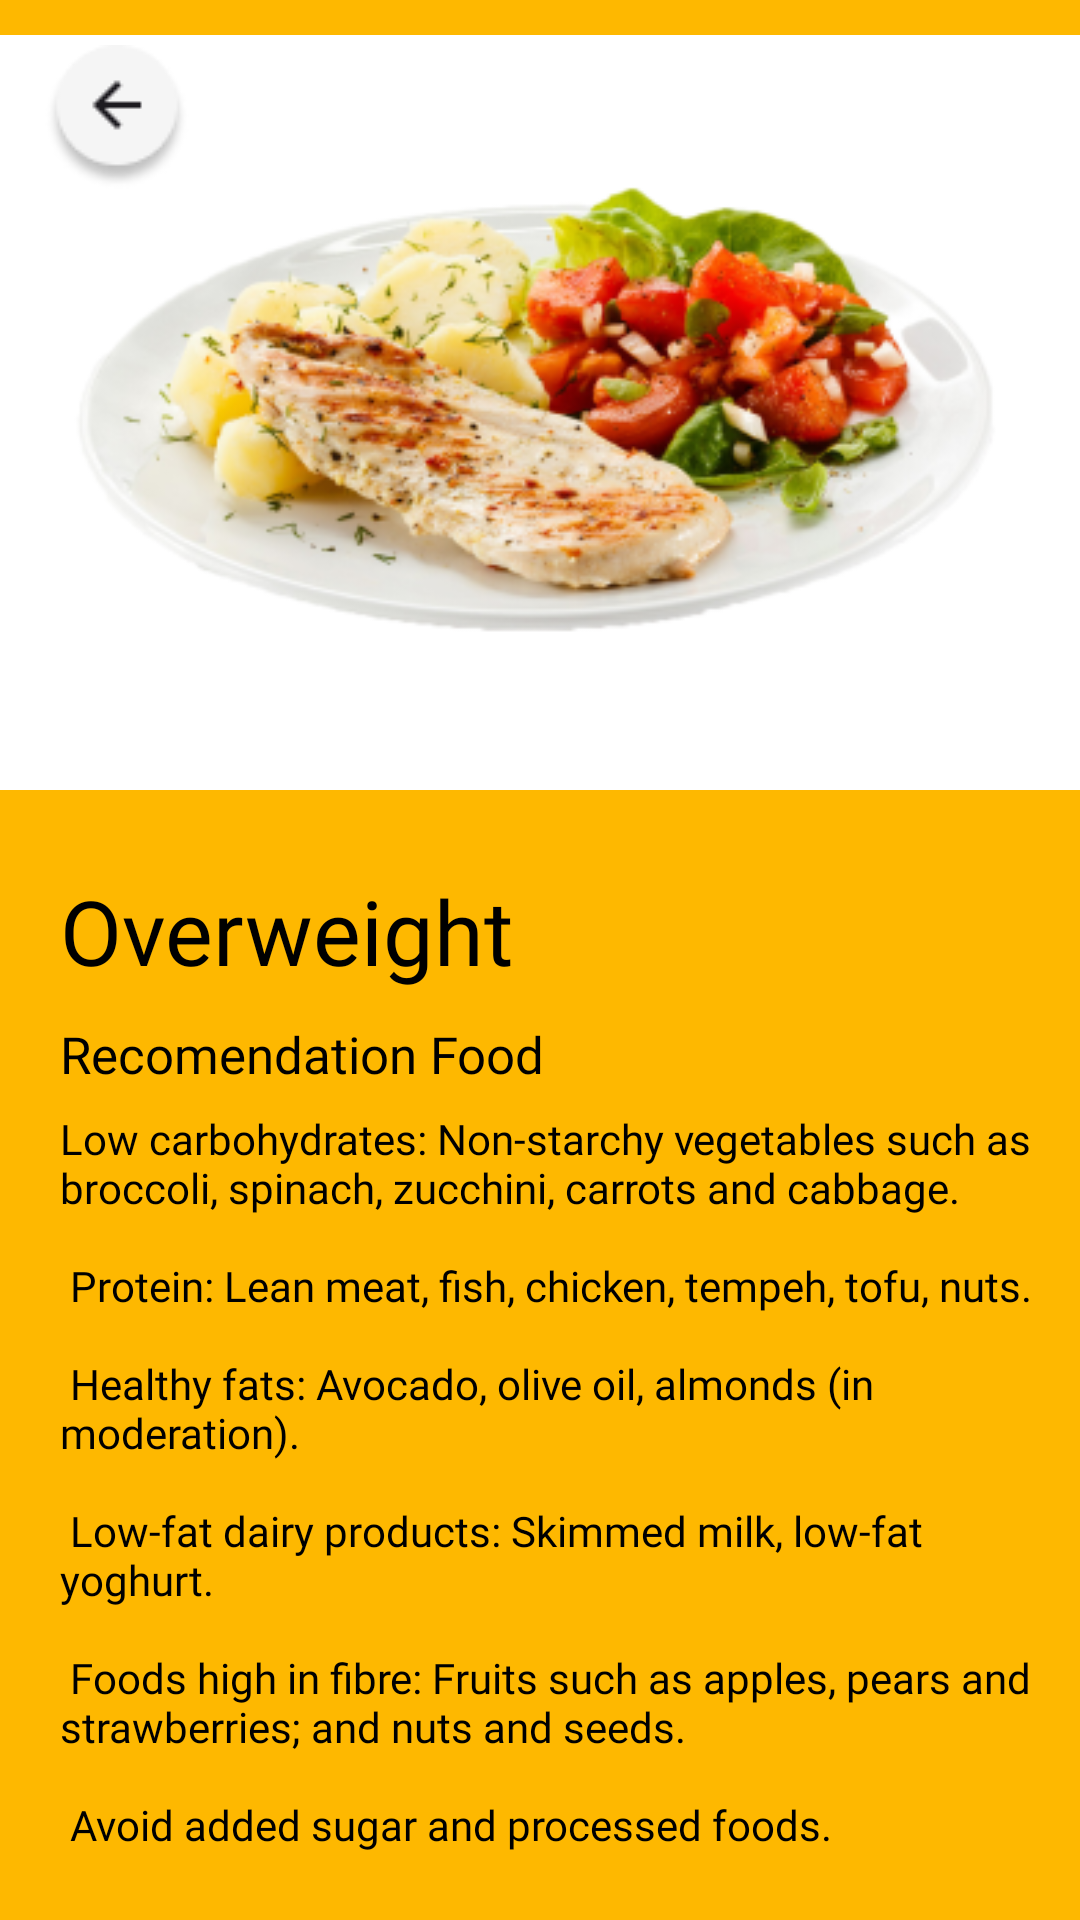

Icon bounding boxes for this 1080px×1920px phone screenshot, format (x1, y1, x2, y2):
back: (51, 45, 183, 183)
